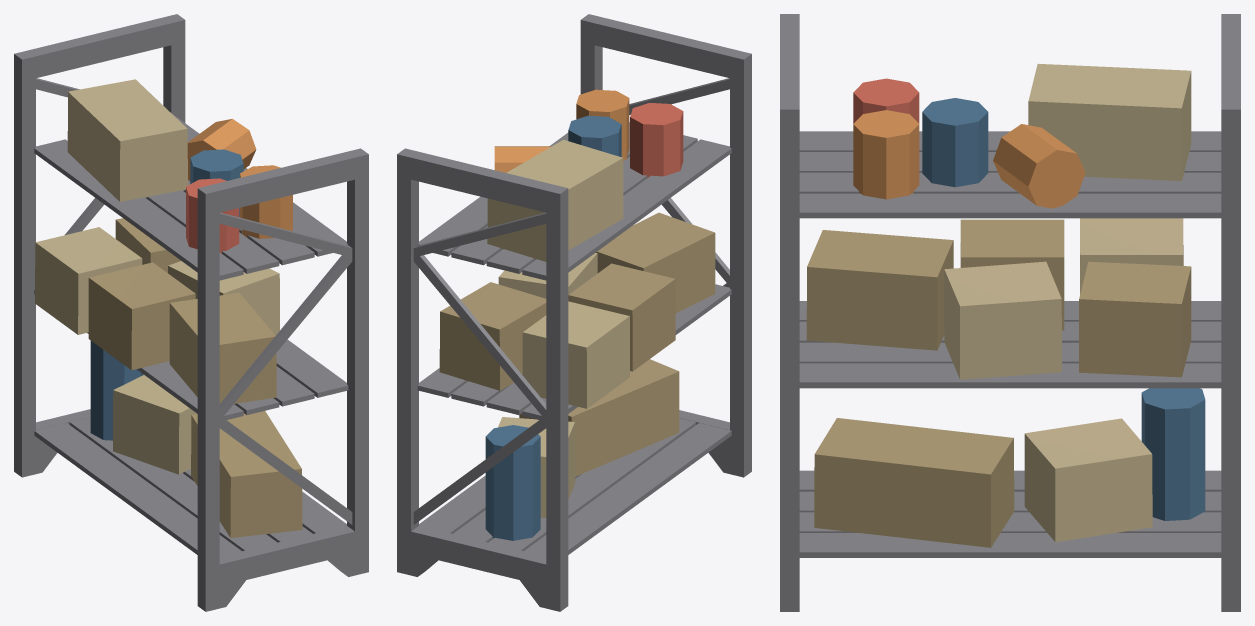
File: shelf big.fbx
The picture shows the model from 3 angles, left to right: view 1: azimuth 30°, elevation 25°; view 2: azimuth 150°, elevation 25°; view 3: azimuth 270°, elevation 25°; orthographic projection. The views are drawn at different scales.
Parts seen in each view (by area): view 1: shelf big; view 2: shelf big; view 3: shelf big.
Part boxes in pixels (x1,y1,x2,y2): shelf big: [14, 14, 368, 611]; shelf big: [397, 14, 751, 611]; shelf big: [780, 14, 1240, 611].
Size of the model in its own units: 58.77 by 141 by 117.
Materials: 1 (1 with a texture image).
